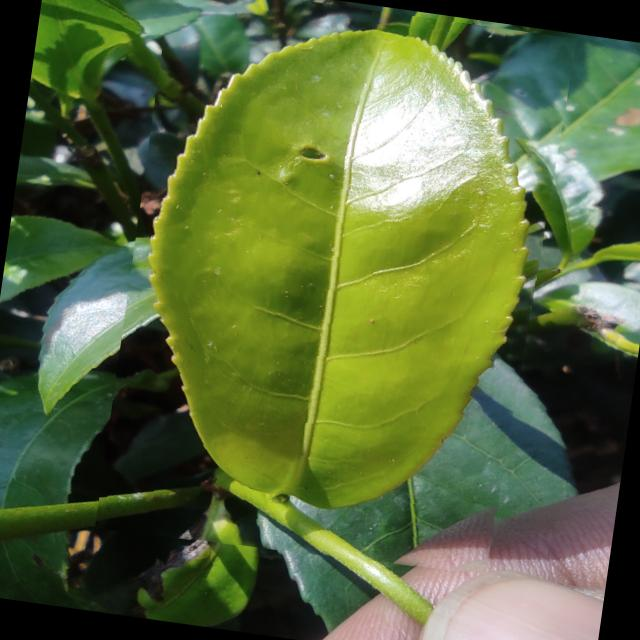Category C(4-7 days): (95, 0, 578, 585)
